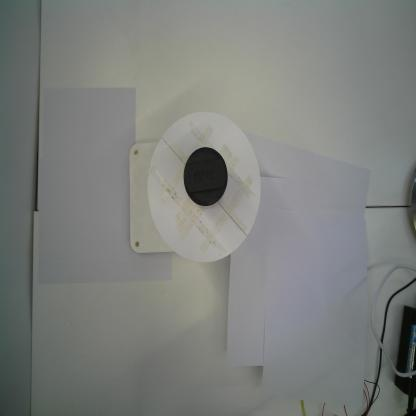Canned Food: (182, 145, 230, 209)
